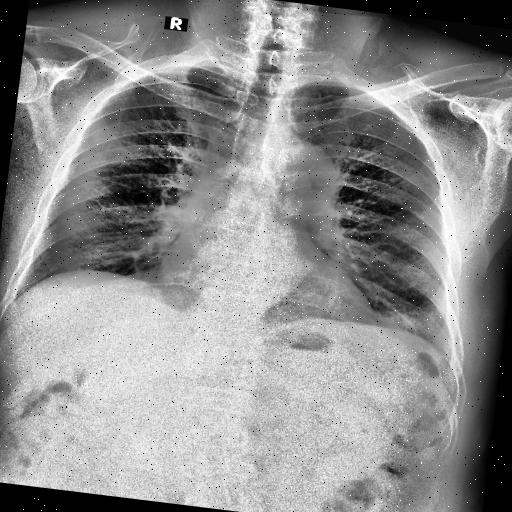0- Aortic enlargement: (244, 133, 344, 227), (254, 132, 344, 216), (259, 134, 344, 220)
11- Pleural thickening: (286, 78, 340, 94)
3- Cardiomegaly: (149, 260, 383, 344)
